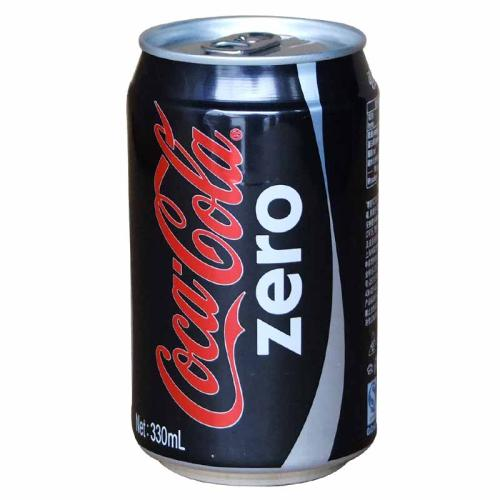coke_zero: (101, 4, 406, 498)
